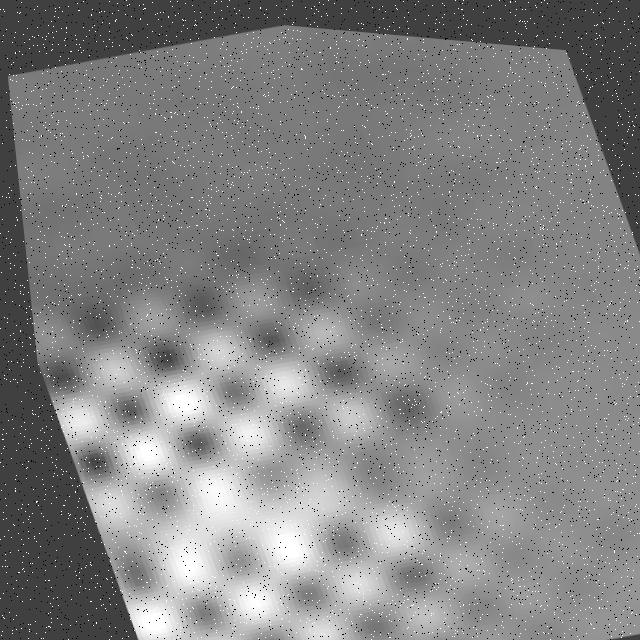person: (19, 227, 542, 640)
